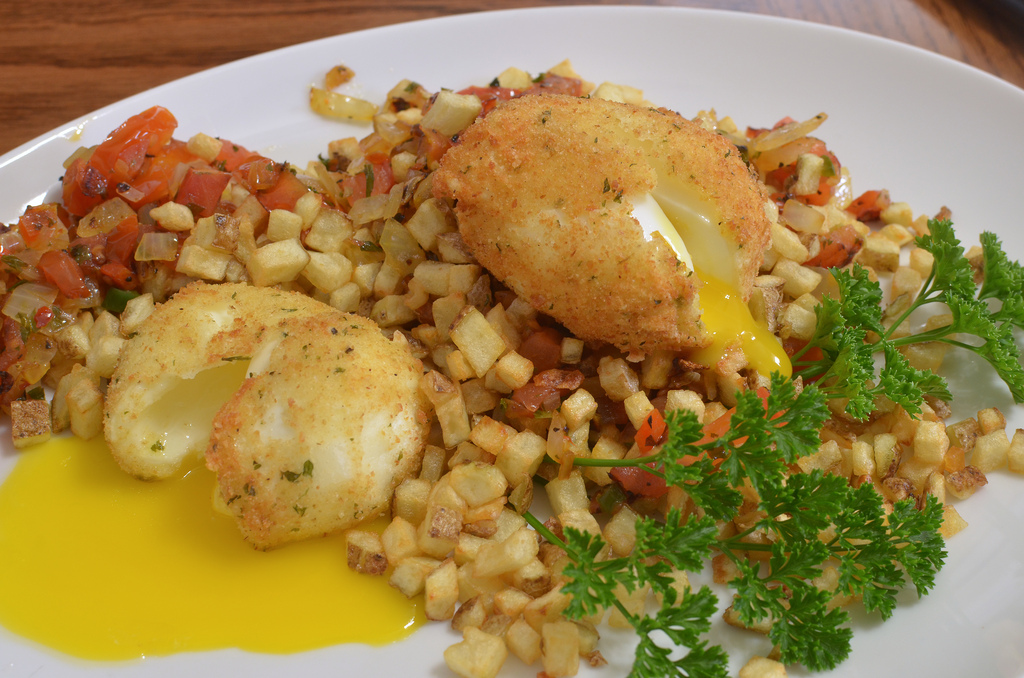fried egg: (465, 107, 789, 376), (108, 287, 422, 519)
